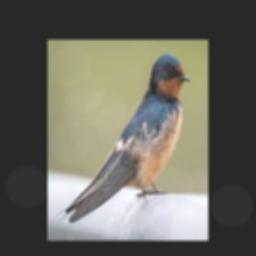Swallow: (57, 52, 189, 223)
